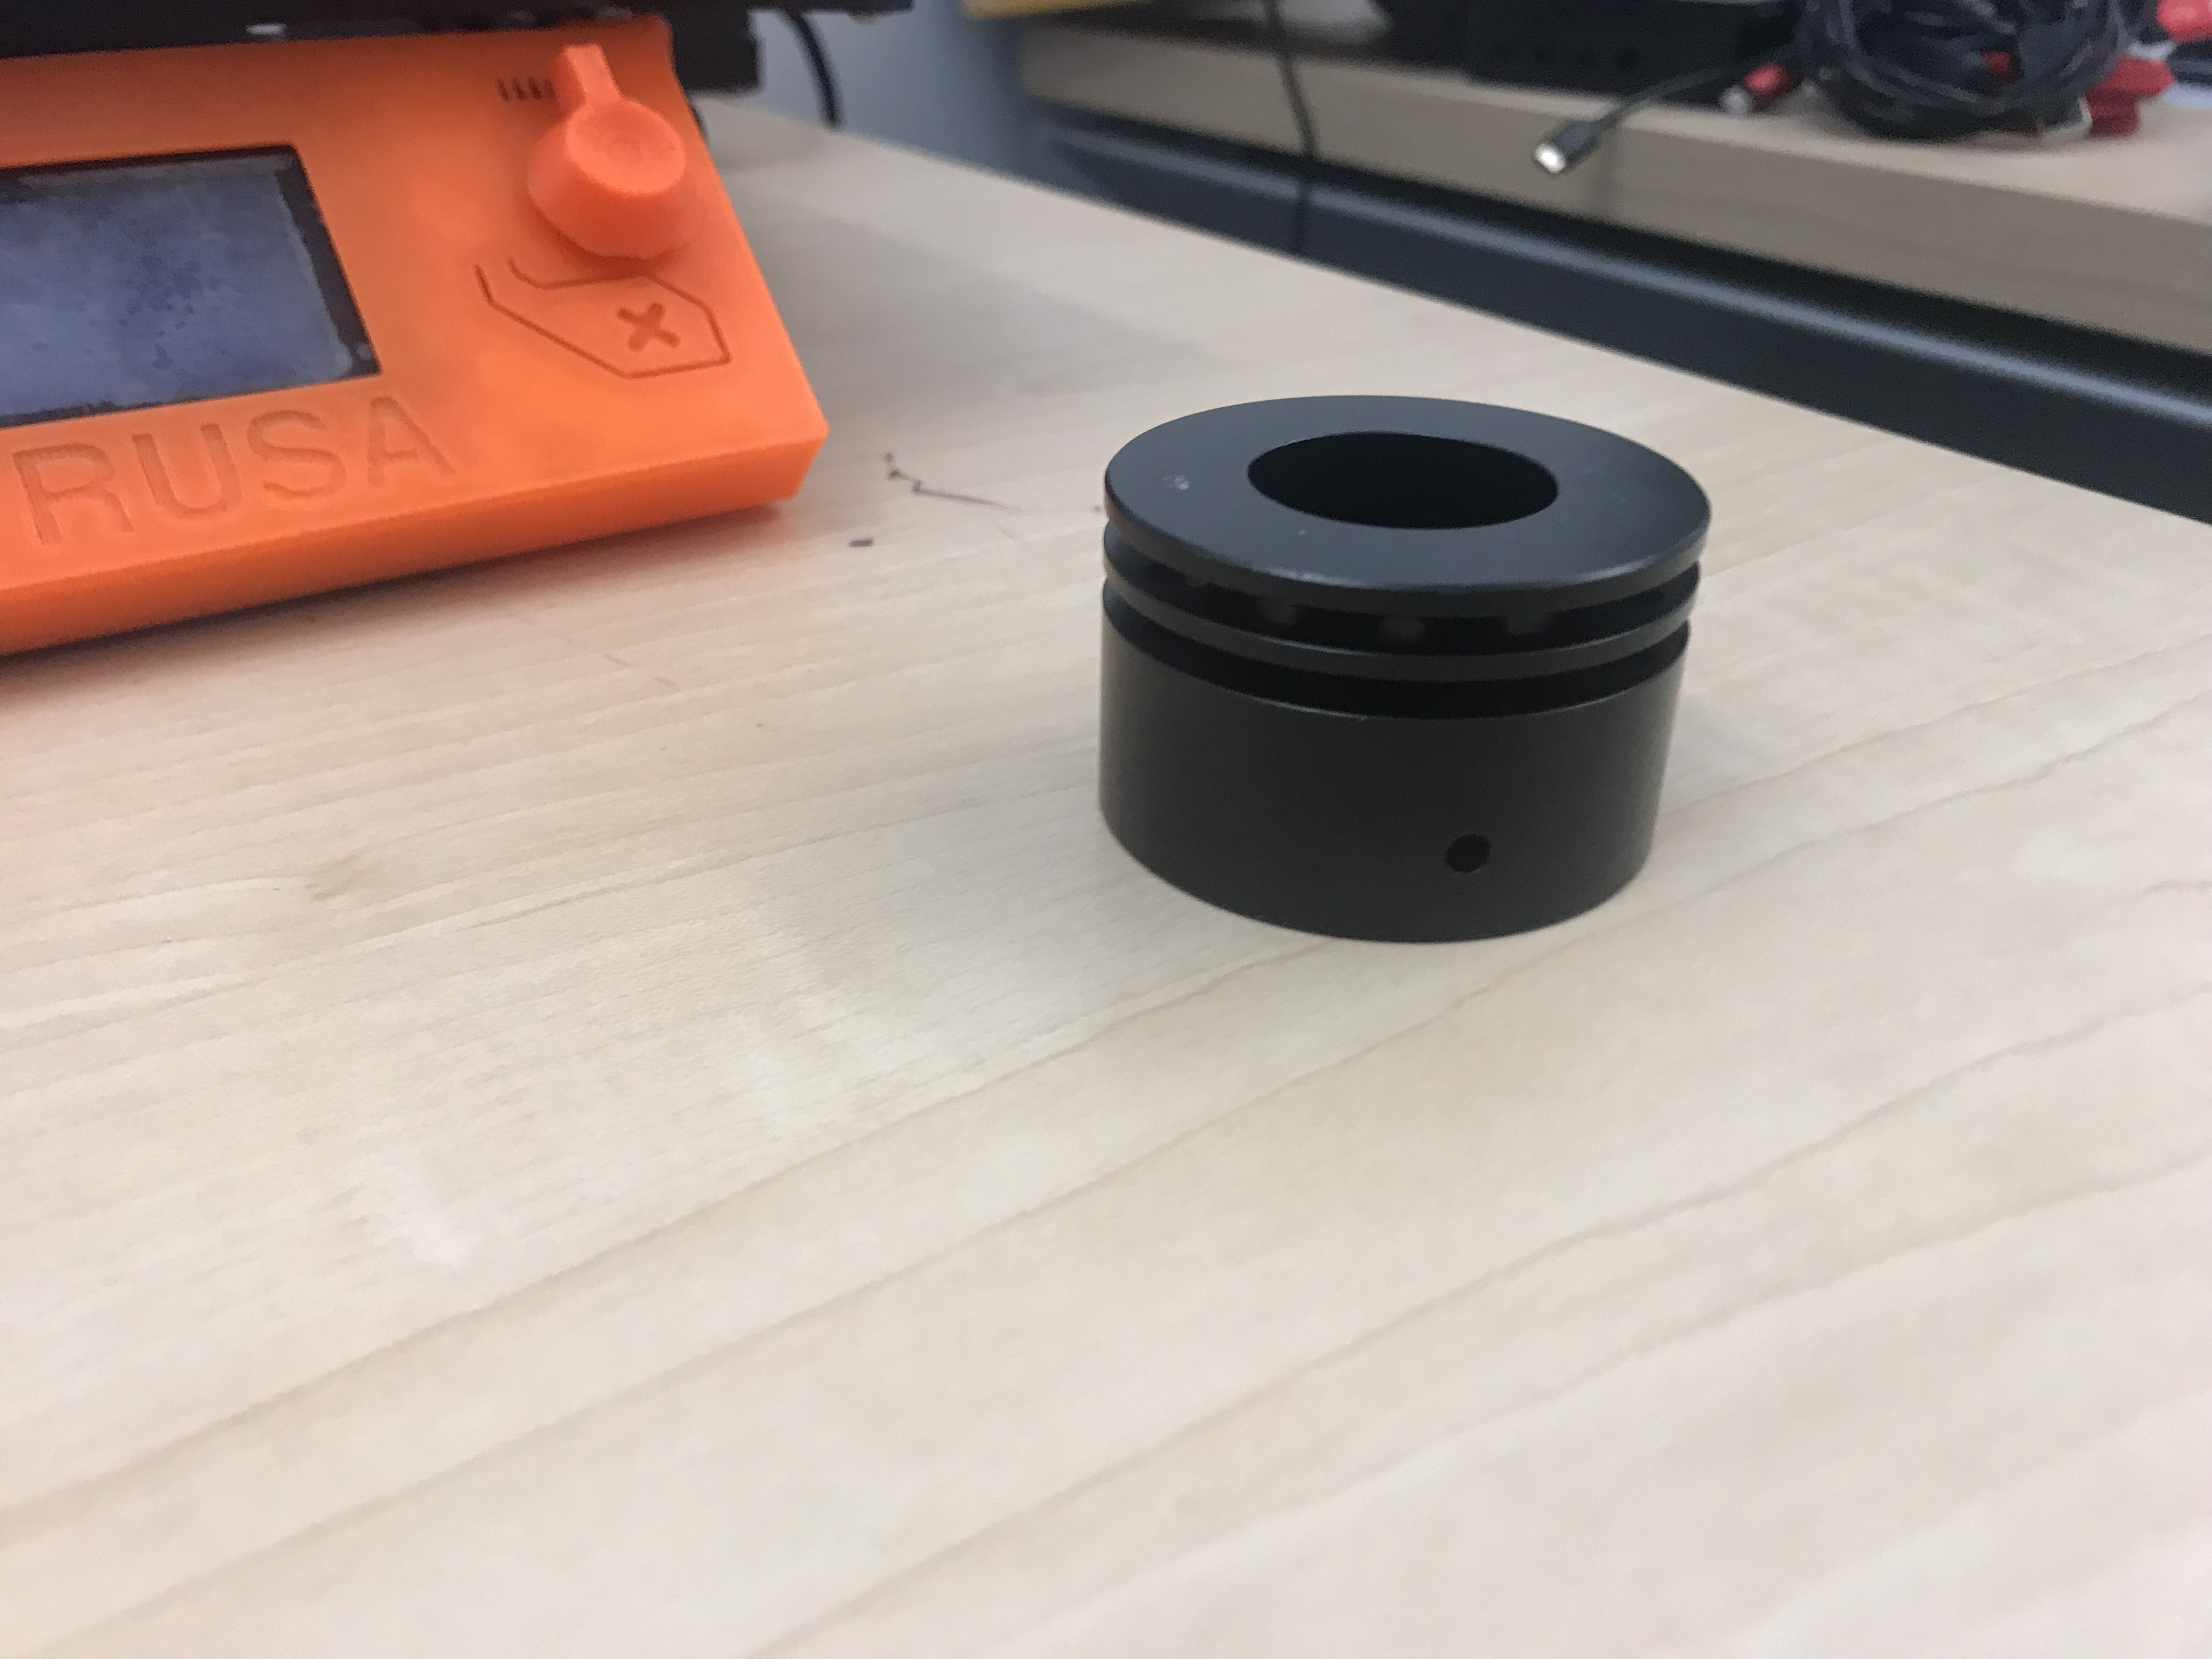pillar1: (1087, 385, 1728, 979)
